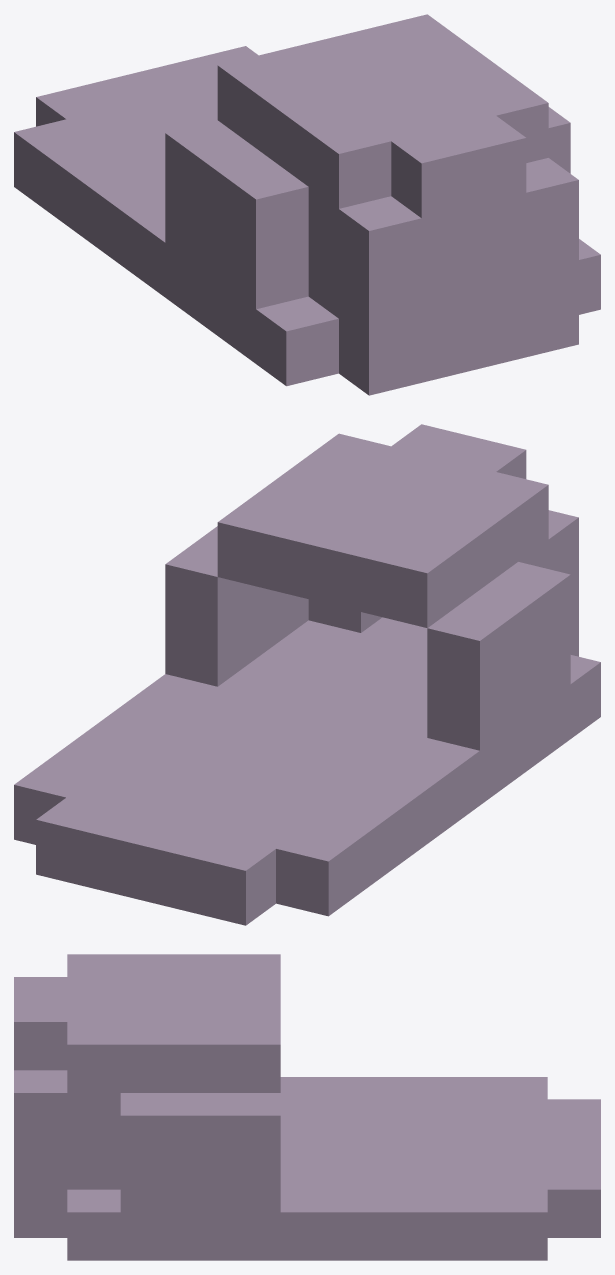
File: Slipper.gltf
The picture shows the model from 3 angles, top to bottom: view 1: azimuth 30°, elevation 25°; view 2: azimuth 150°, elevation 25°; view 3: azimuth 270°, elevation 25°; orthographic projection. The views are drawn at different scales.
Parts seen in each view (by area): view 1: unnamed_mesh1; view 2: unnamed_mesh1; view 3: unnamed_mesh1.
Boxes of the visible parts, box(x1,y1,x2,y2) form: unnamed_mesh1: box(14, 14, 600, 395); unnamed_mesh1: box(14, 424, 600, 925); unnamed_mesh1: box(14, 954, 600, 1260).
Size of the model in its own units: 6 by 4 by 11.
Materials: 1 (1 with a texture image).
